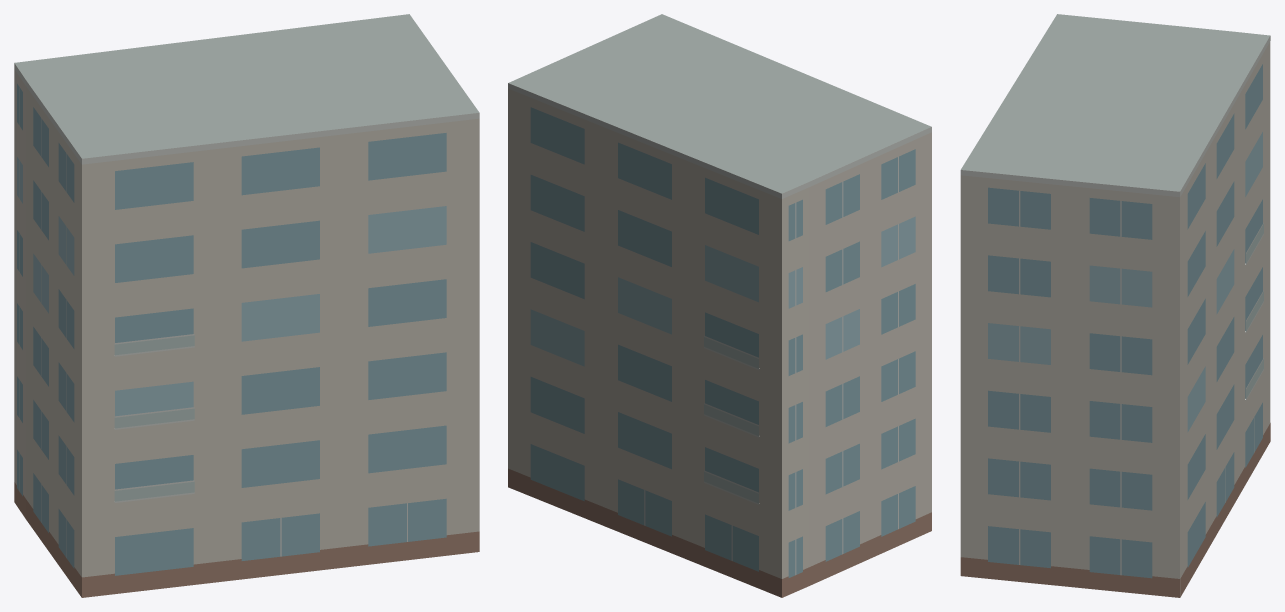
File: survey-upis-32989091.glb
The picture shows the model from 3 angles, left to right: view 1: azimuth 30°, elevation 25°; view 2: azimuth 150°, elevation 25°; view 3: azimuth 270°, elevation 25°; orthographic projection. The views are drawn at different scales.
Visible parts, largest first — view 1: survey-upis-32989091.tmp; view 2: survey-upis-32989091.tmp; view 3: survey-upis-32989091.tmp.
Boxes of the visible parts, left/top/right/bottom form: survey-upis-32989091.tmp: left=14, top=14, right=479, bottom=597; survey-upis-32989091.tmp: left=508, top=14, right=931, bottom=597; survey-upis-32989091.tmp: left=960, top=14, right=1270, bottom=597.
Bounding box in the file's own units: 17.19 × 18.3 × 12.66.
